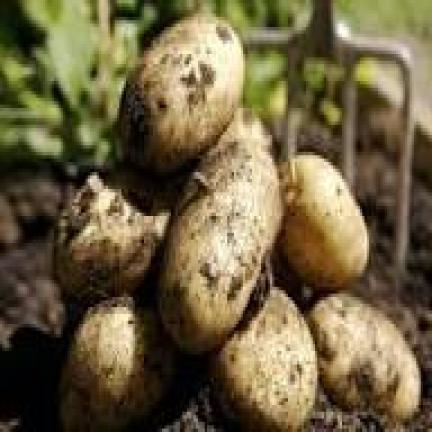potato: (164, 111, 279, 351), (122, 14, 243, 169), (212, 287, 315, 429), (63, 297, 173, 429), (56, 176, 166, 300), (308, 294, 416, 418), (279, 152, 364, 287)
